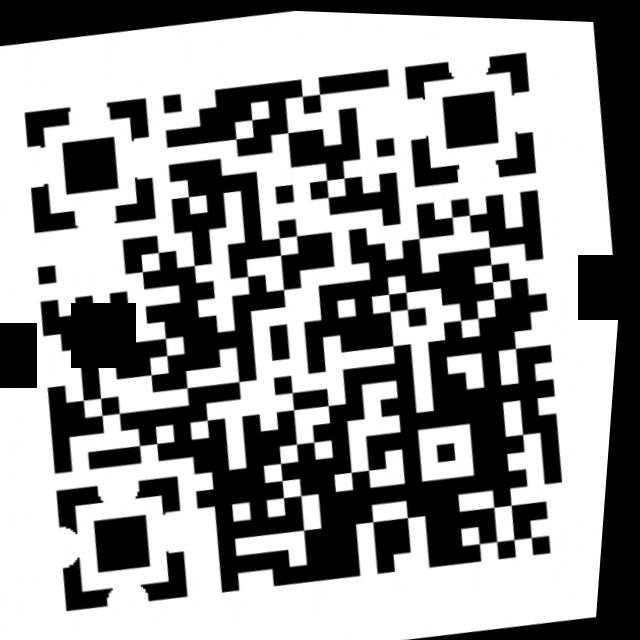QR_CODE: (0, 15, 629, 640)
